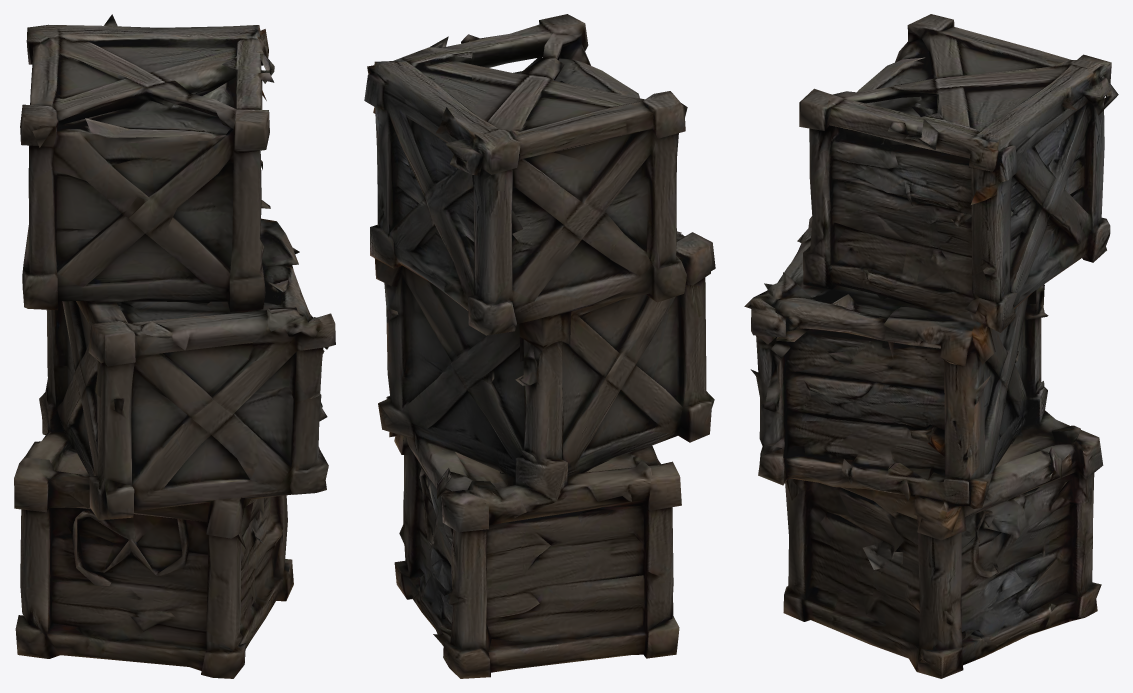
File: crates.glb
3 views of the same model, side by side, from view 1: azimuth 30°, elevation 25°; view 2: azimuth 150°, elevation 25°; view 3: azimuth 270°, elevation 25° (orthographic). The views are drawn at different scales.
Parts seen in each view (by area): view 1: tripo_node_71c99e20-9f6b-4ecd-8eda-df993e5b7f9d; view 2: tripo_node_71c99e20-9f6b-4ecd-8eda-df993e5b7f9d; view 3: tripo_node_71c99e20-9f6b-4ecd-8eda-df993e5b7f9d.
Part boxes in pixels (x1,y1,x2,y2): tripo_node_71c99e20-9f6b-4ecd-8eda-df993e5b7f9d: (14,14,335,678); tripo_node_71c99e20-9f6b-4ecd-8eda-df993e5b7f9d: (364,14,715,678); tripo_node_71c99e20-9f6b-4ecd-8eda-df993e5b7f9d: (744,14,1118,678).
Size of the model in its own units: 0.5383 by 1 by 0.622.
Materials: 1 (1 with a texture image).
